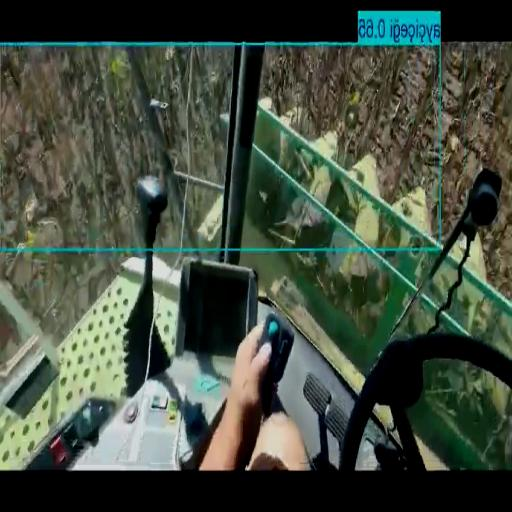ayc: (1, 43, 512, 468), (409, 360, 512, 468)
